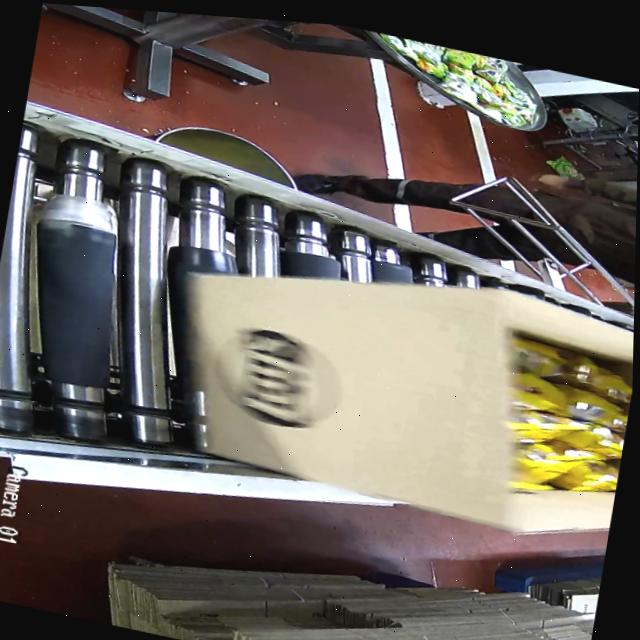SALTED: (508, 336, 633, 511)
